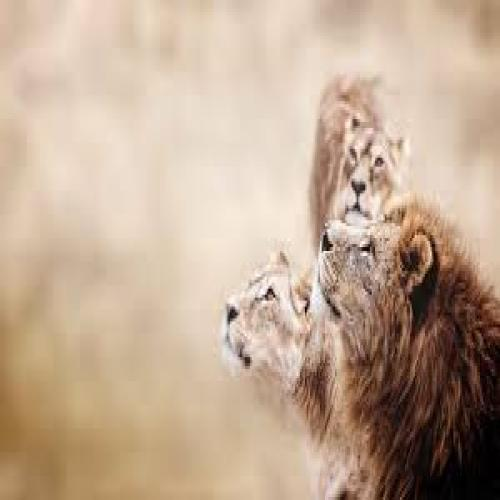lion-endangered: (313, 208, 500, 499), (220, 253, 368, 500), (311, 72, 410, 242)
